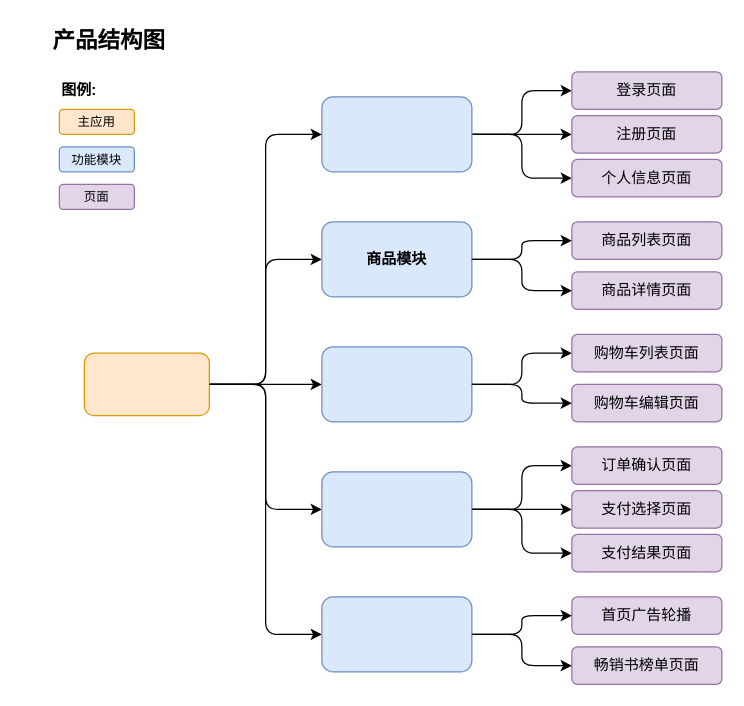
This 744x706 diagram has some shape labels left out. Here are the shapes that lost their labels. From the top down, the centre of each, then its label:
At pixel 396 134: "用户账户模块".
At pixel 146 384: "番茄商城应用".
At pixel 396 384: "购物车模块".
At pixel 396 509: "订单支付模块".
At pixel 396 634: "推荐与广告模块".
